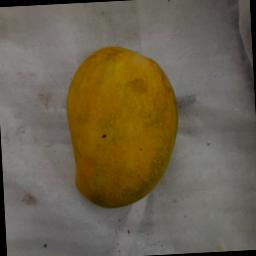Mango Ripe: (27, 0, 256, 249)
